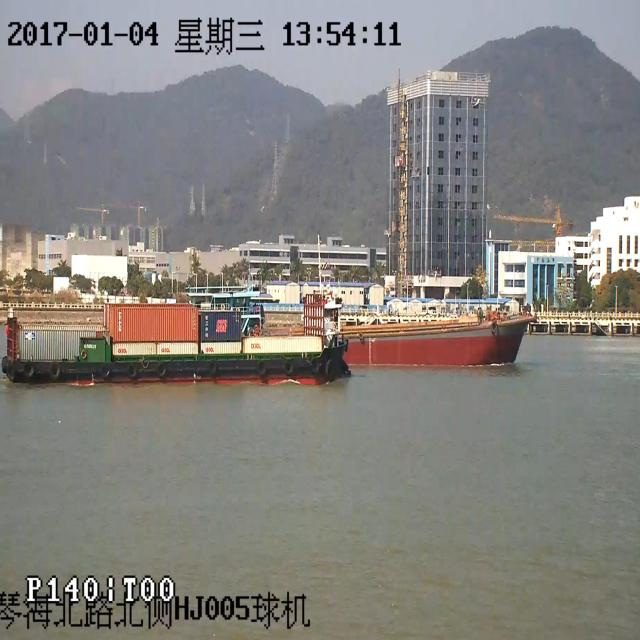cargoship: (10, 269, 342, 377), (351, 268, 531, 371)
